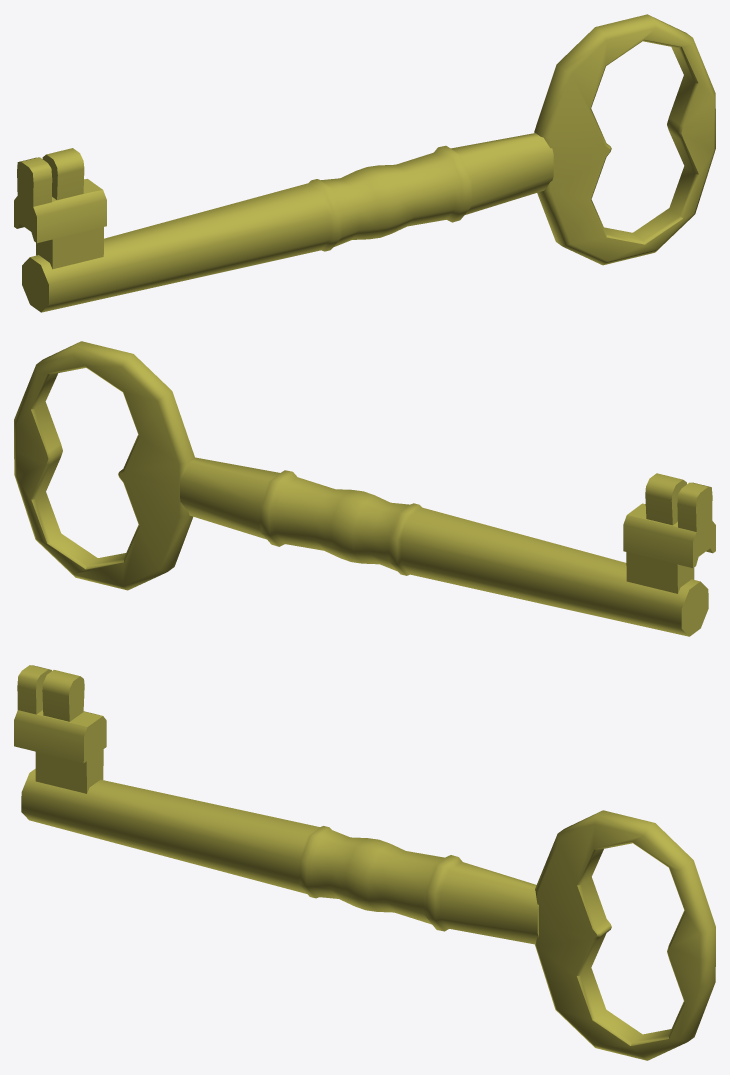
The model's file is GoldenKey.fbx.
The picture shows the model from 3 angles, top to bottom: view 1: azimuth 30°, elevation 25°; view 2: azimuth 150°, elevation 25°; view 3: azimuth 330°, elevation 25°; orthographic projection.
Parts seen in each view (by area): view 1: pCylinder15; view 2: pCylinder15; view 3: pCylinder15.
Boxes of the visible parts, x1,y1,x2,y2 form: pCylinder15: (14,14,715,312); pCylinder15: (14,341,715,636); pCylinder15: (14,665,715,1060).
Size of the model in its own units: 75.11 by 25.06 by 6.42.
